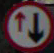Two way: (4, 5, 48, 47)
